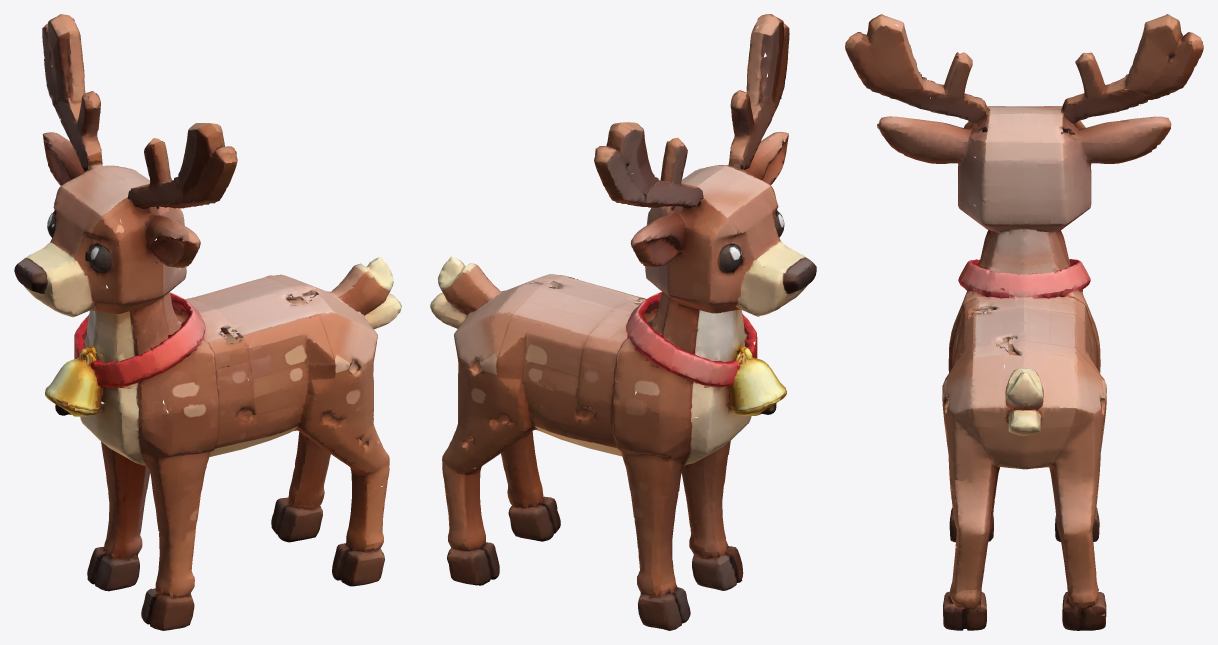
Rendered from xmas_reindeer.glb.
3 views of the same model, side by side, from view 1: azimuth 30°, elevation 25°; view 2: azimuth 150°, elevation 25°; view 3: azimuth 270°, elevation 25° (orthographic). The views are drawn at different scales.
Parts seen in each view (by area): view 1: body_q, legFR_q, legFL_q, legBR_q, legBL_q; view 2: body_q, legFL_q, legBL_q, legFR_q, legBR_q; view 3: body_q, legBR_q, legBL_q.
Part boxes in pixels (bbox=[...]): body_q: bbox=[14, 14, 401, 496]; legFR_q: bbox=[141, 488, 202, 630]; legFL_q: bbox=[87, 452, 149, 591]; legBR_q: bbox=[329, 446, 389, 586]; legBL_q: bbox=[271, 432, 330, 542]; body_q: bbox=[430, 14, 816, 496]; legFL_q: bbox=[629, 487, 690, 630]; legBL_q: bbox=[442, 446, 500, 585]; legFR_q: bbox=[681, 451, 743, 590]; legBR_q: bbox=[501, 431, 560, 541]; body_q: bbox=[845, 14, 1203, 510]; legBR_q: bbox=[943, 500, 994, 630]; legBL_q: bbox=[1054, 497, 1106, 630].
Bounding box in the file's own units: 0.7144 × 0.9772 × 0.6106.
Materials: 1 (1 with a texture image).
